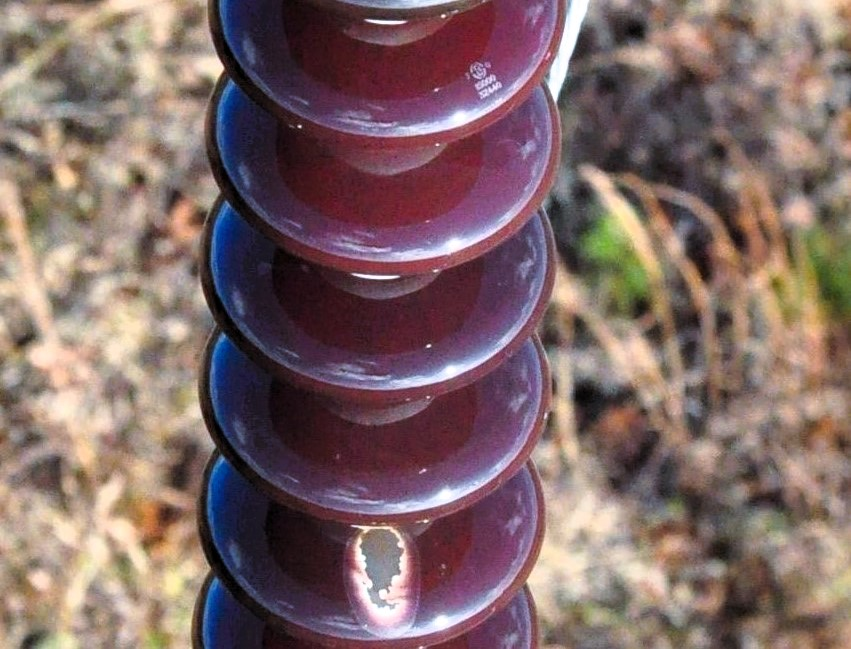Insulator flashover: (193, 442, 553, 649)
